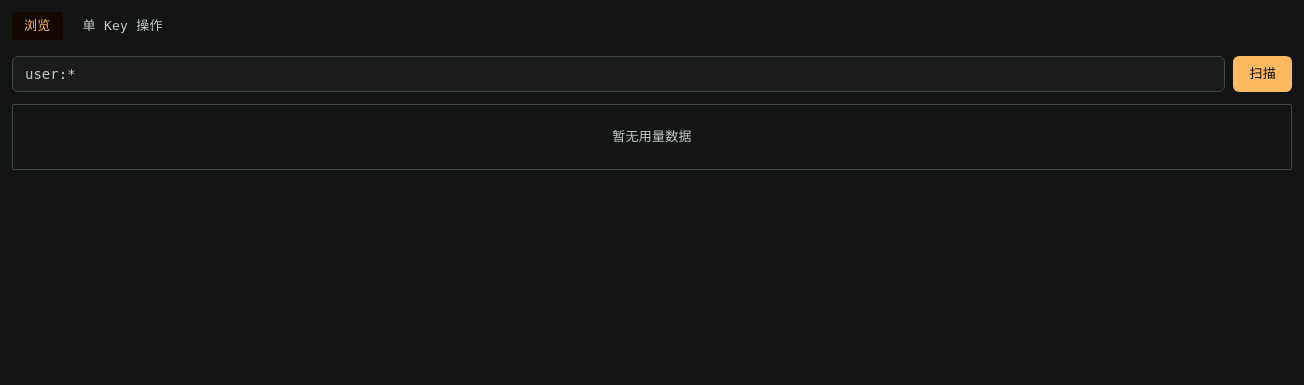
Test: KvBrowser › get requires a key
Click the button with test id "kv-mode-operate" at x=123, y=26, box [70,12,175,40]
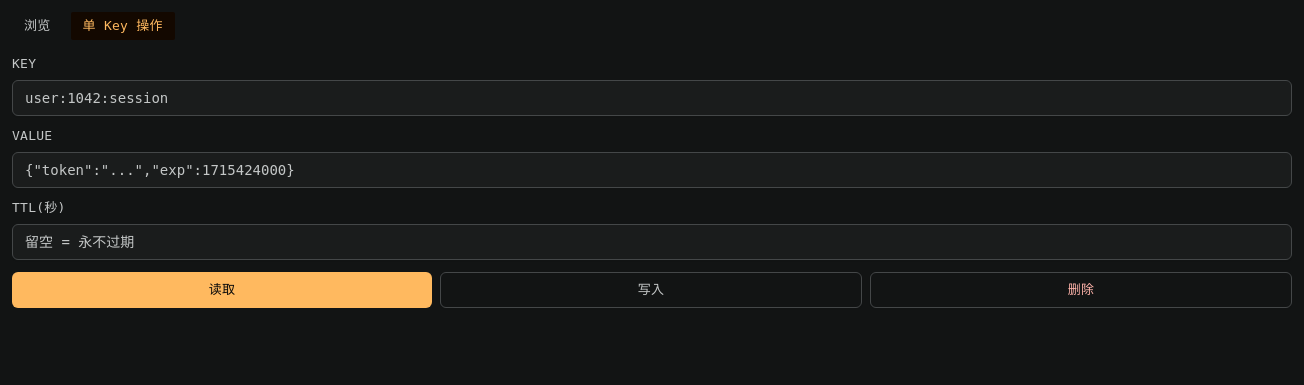
Click the button with test id "kv-get" at x=222, y=290, box [12,272,432,308]
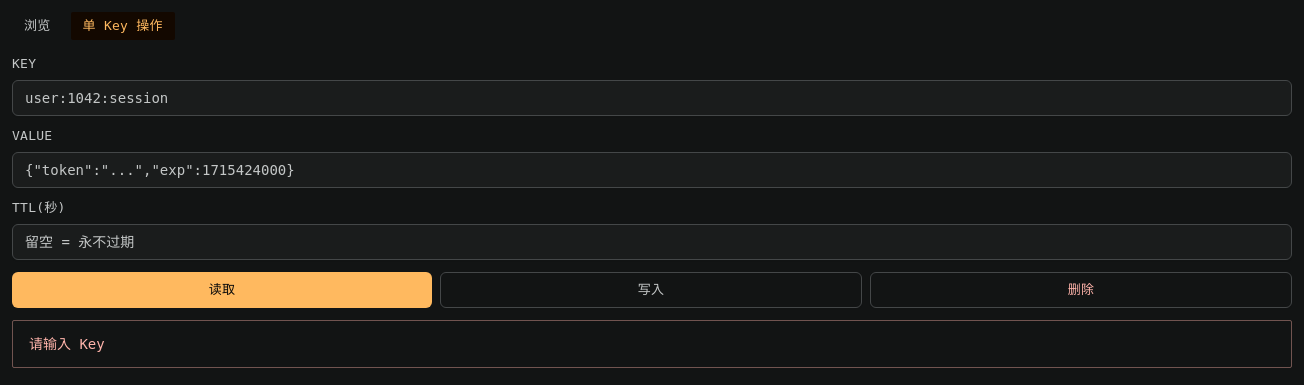
Now the text with test id "kv-result" reads "请输入 Key", box [29,336,105,352]
